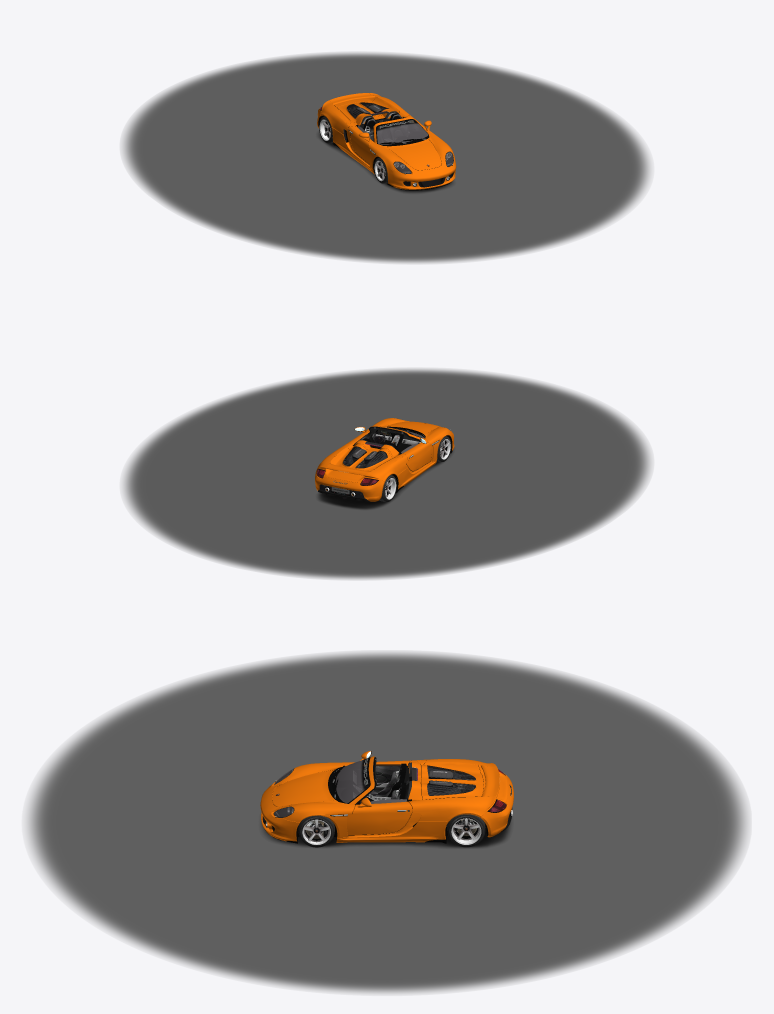
File: porsche.glb
The picture shows the model from 3 angles, top to bottom: view 1: azimuth 30°, elevation 25°; view 2: azimuth 150°, elevation 25°; view 3: azimuth 270°, elevation 25°; orthographic projection. The views are drawn at different scales.
Visible parts, largest first — view 1: Object_36, Object_5, Object_7, Object_13; view 2: Object_36, Object_5, Object_18, Object_13; view 3: Object_36, Object_5, Object_18, Object_13, Object_7, Object_48, Object_3, Object_59.
Part boxes in pixels (box(x1,y1,x2,y2)): Object_36: box(121, 52, 651, 263); Object_5: box(317, 93, 456, 189); Object_7: box(376, 119, 428, 144); Object_13: box(319, 108, 453, 186); Object_36: box(122, 368, 652, 579); Object_5: box(315, 418, 454, 501); Object_18: box(317, 452, 452, 509); Object_13: box(316, 427, 443, 495); Object_36: box(25, 651, 749, 994); Object_5: box(260, 751, 513, 842); Object_18: box(261, 821, 511, 848); Object_13: box(273, 751, 506, 838); Object_7: box(335, 758, 369, 803); Object_48: box(344, 757, 409, 804); Object_3: box(427, 765, 475, 795); Object_59: box(302, 818, 481, 844).
Size of what is drawn, in the model's own units: 14.74 by 1.65 by 14.71.
71 materials, 53 textured.
